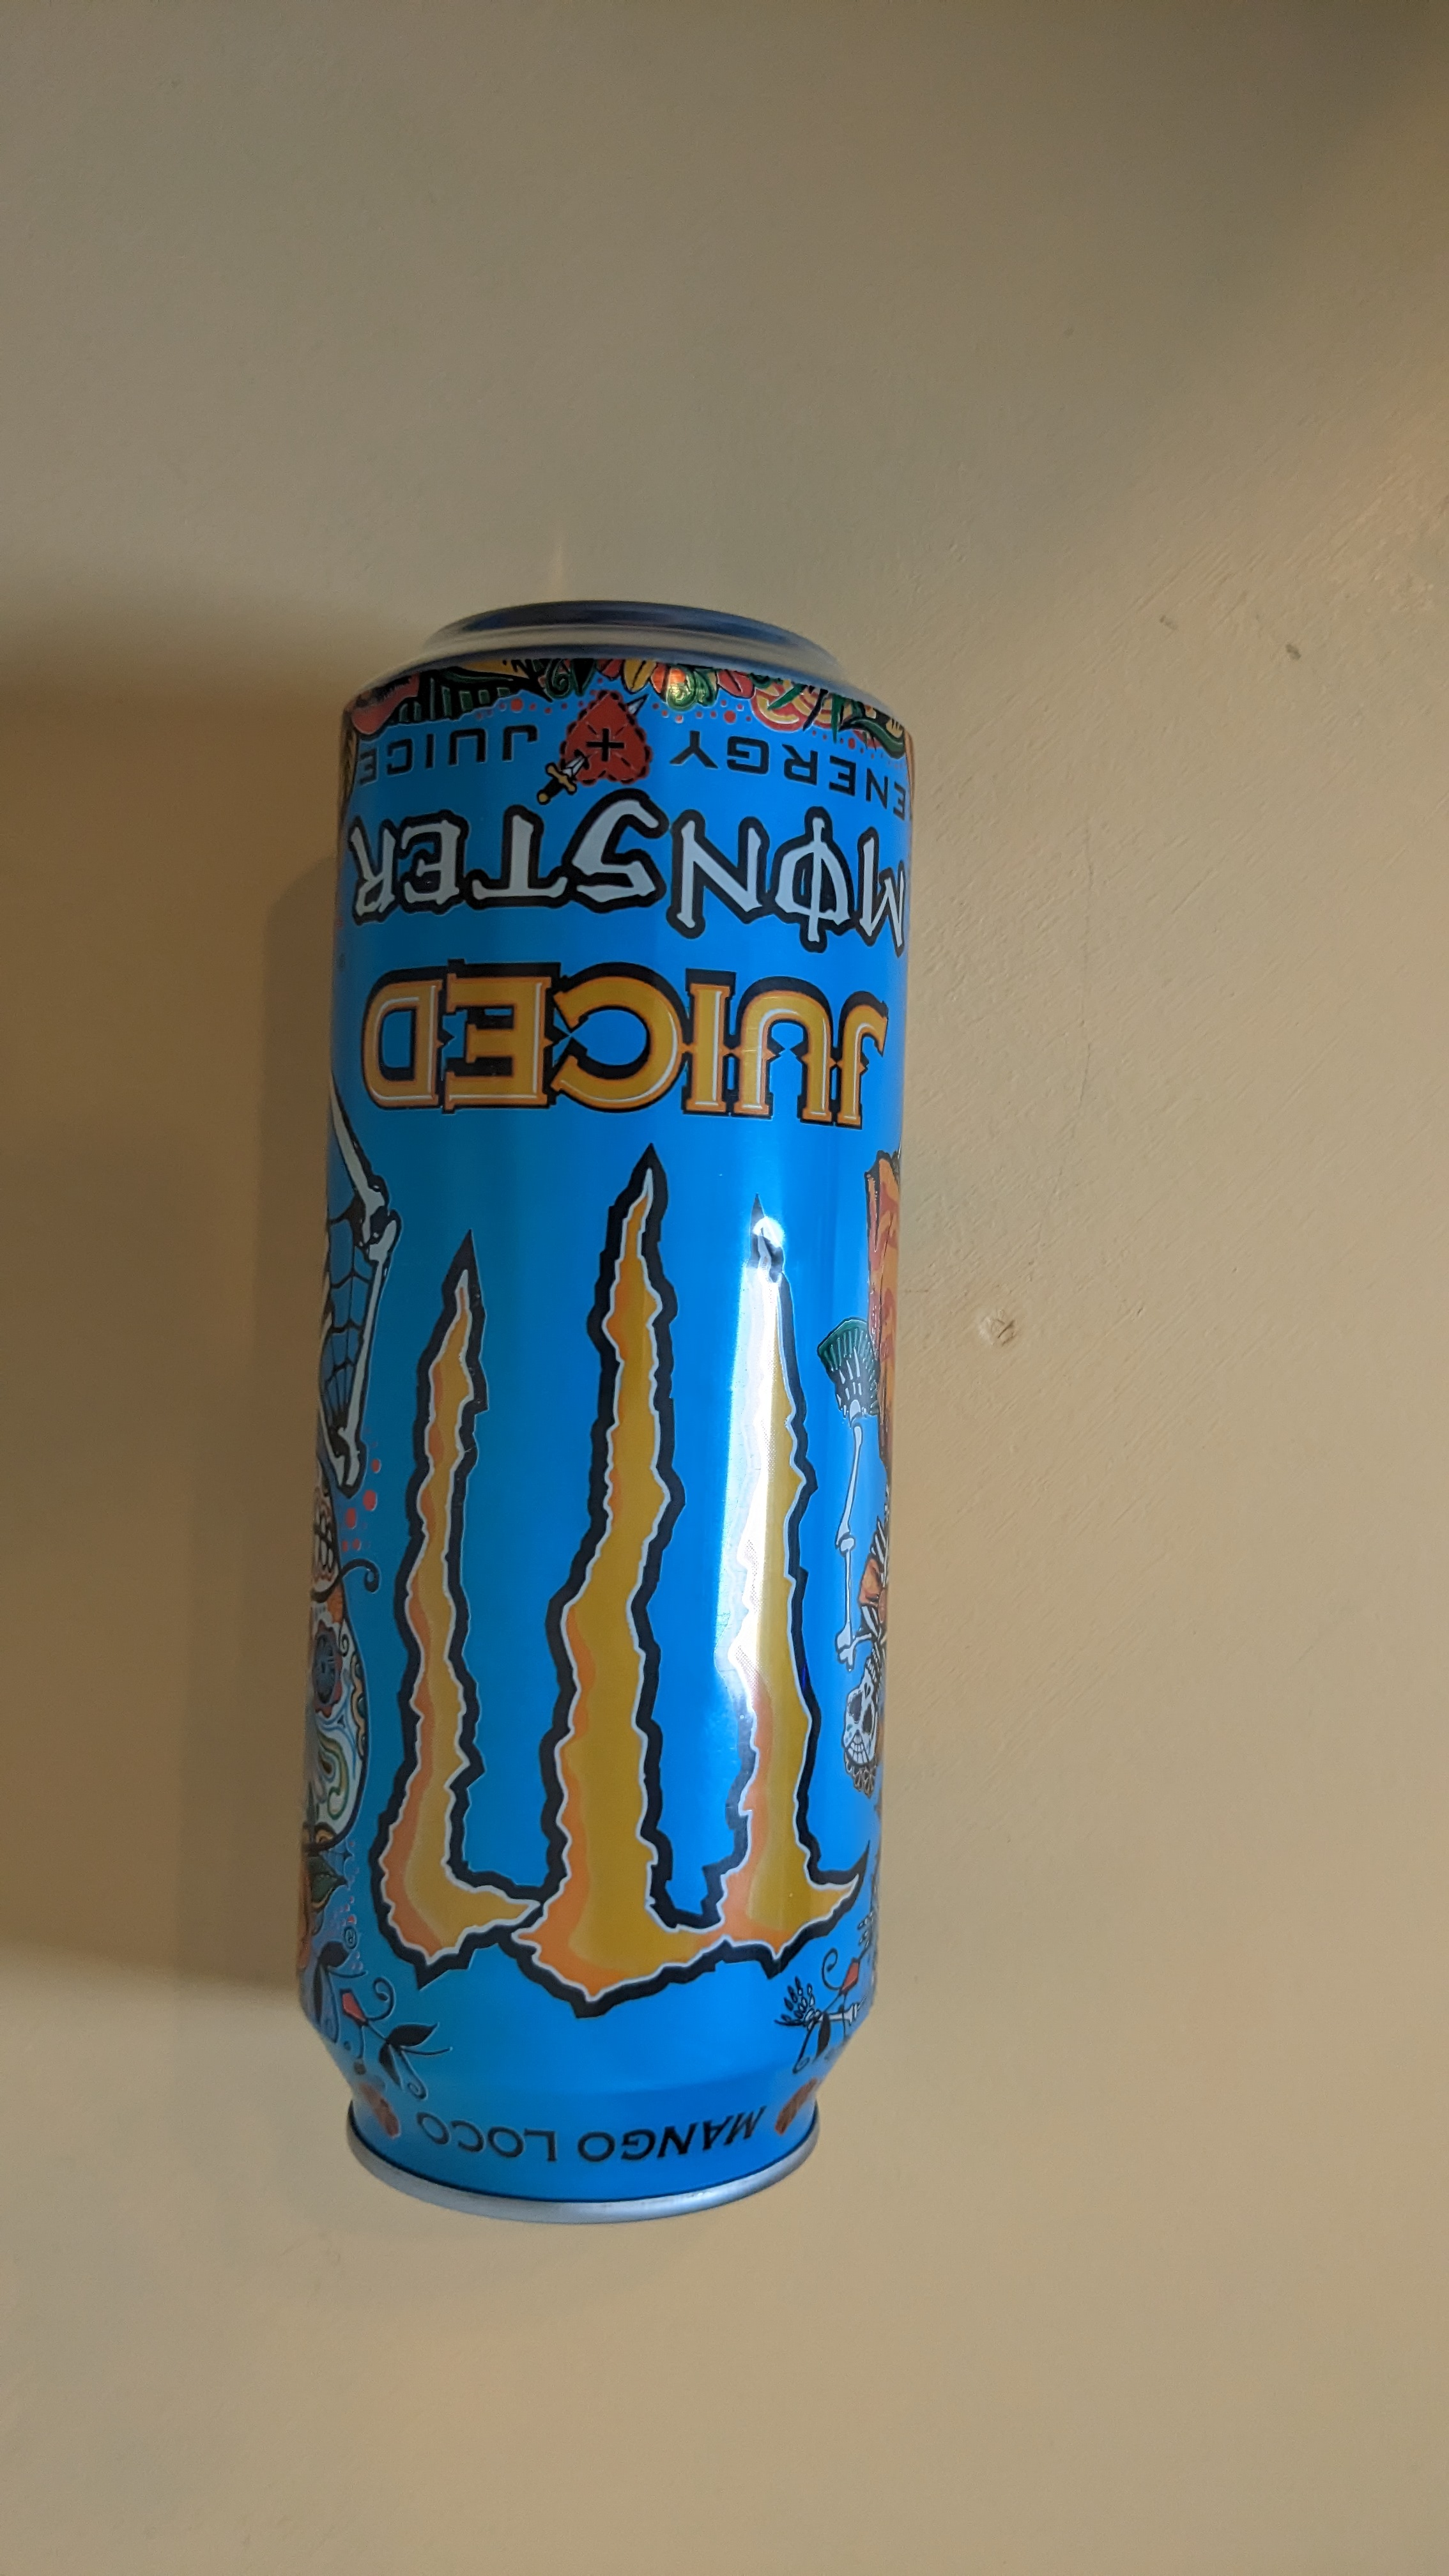monster: (315, 577, 961, 2258)
